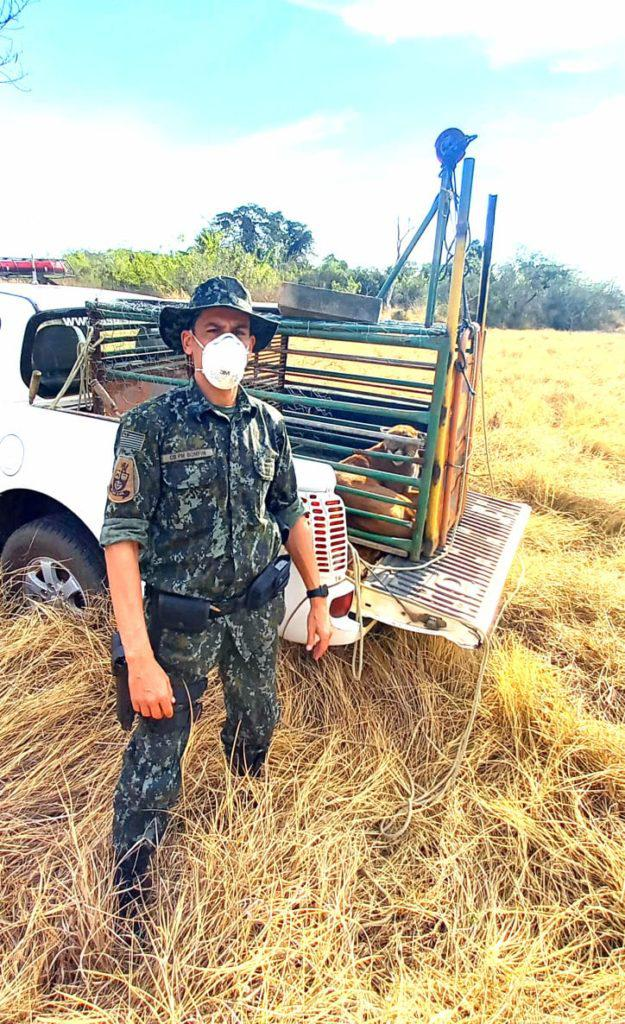OncaParda: (322, 412, 435, 558)
